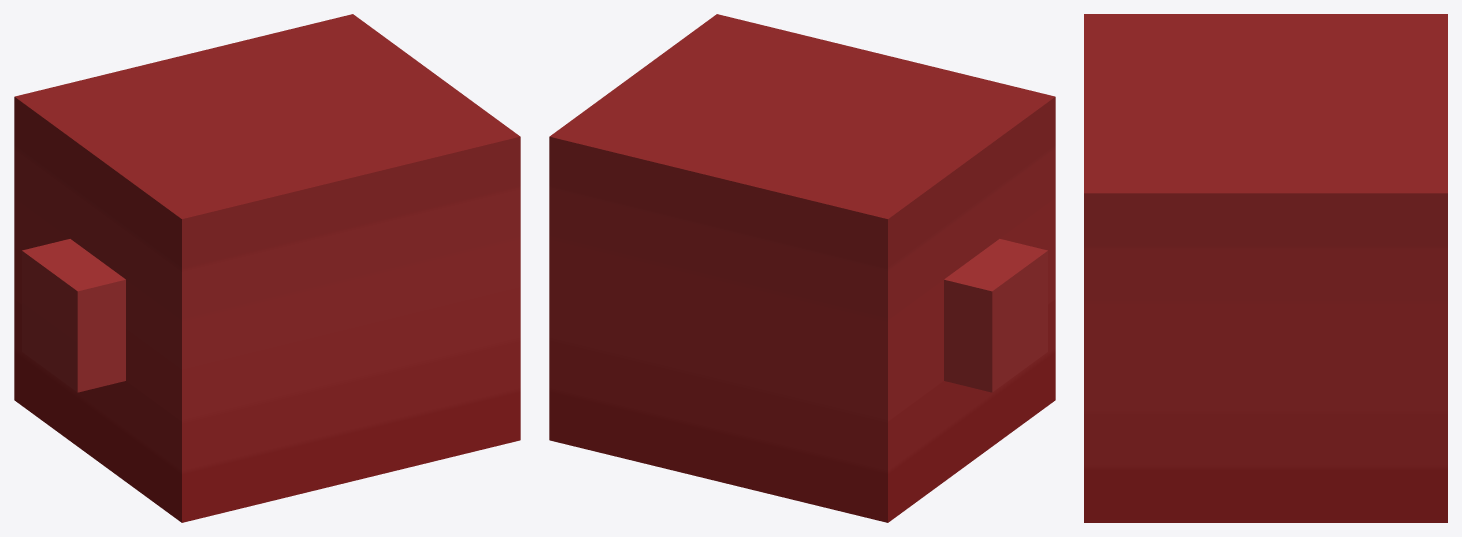
Rendered from Shoulder061.fbx.
3 renders of one model, left to right at view 1: azimuth 30°, elevation 25°; view 2: azimuth 150°, elevation 25°; view 3: azimuth 270°, elevation 25°, orthographic. The views are drawn at different scales.
Parts seen in each view (by area): view 1: Shoulder061; view 2: Shoulder061; view 3: Shoulder061.
Part boxes in pixels (left/top/right/bottom): Shoulder061: left=14, top=14, right=520, bottom=522; Shoulder061: left=549, top=14, right=1055, bottom=522; Shoulder061: left=1084, top=14, right=1447, bottom=522.
Bounding box in the file's own units: 8 × 6 × 6.
